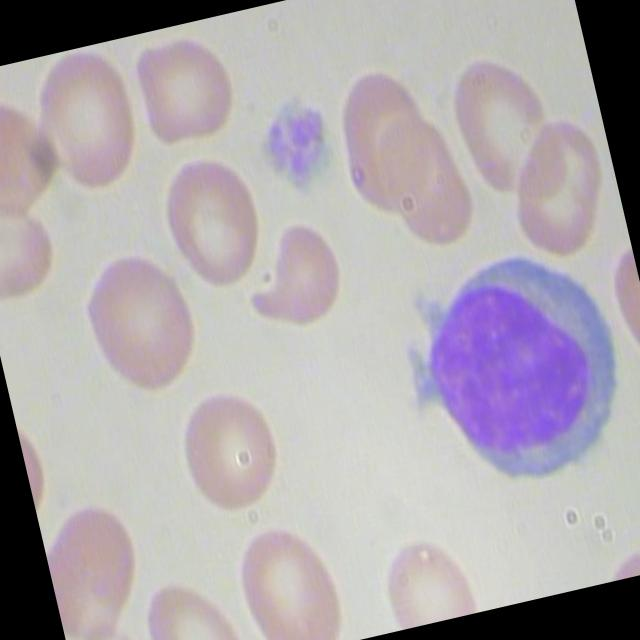RBC: (68, 235, 218, 416), (15, 36, 156, 200), (146, 137, 284, 302), (162, 377, 300, 522), (498, 100, 621, 262), (320, 55, 443, 216), (439, 42, 562, 203), (125, 13, 254, 156), (230, 193, 358, 337), (220, 507, 358, 640), (37, 492, 160, 640), (361, 512, 490, 632)
WBC: (379, 230, 640, 520)
